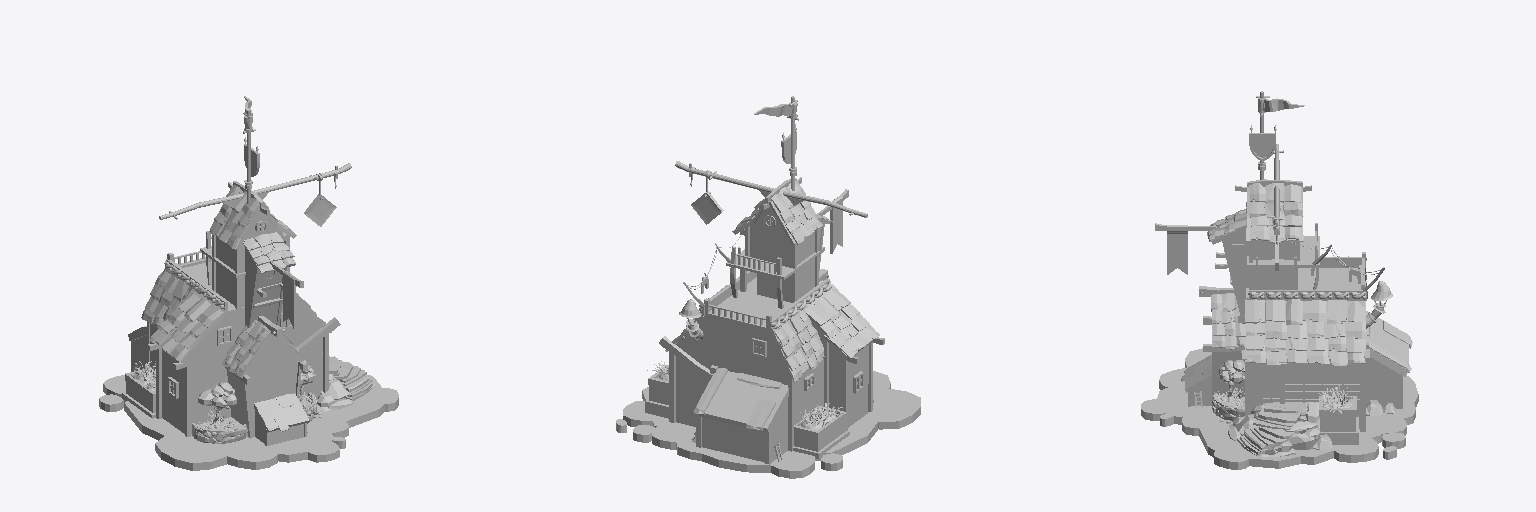
Rendered from house.obj.
3 views of the same model, side by side, from view 1: azimuth 30°, elevation 25°; view 2: azimuth 150°, elevation 25°; view 3: azimuth 270°, elevation 25° (orthographic).
Visible parts, largest first — view 1: curve9_Mesh.001; view 2: curve9_Mesh.001; view 3: curve9_Mesh.001.
Boxes of the visible parts, <box> form: curve9_Mesh.001: <box>99,96,398,470</box>; curve9_Mesh.001: <box>616,96,920,478</box>; curve9_Mesh.001: <box>1141,91,1418,469</box>.
Size of the model in its own units: 0.2199 by 0.2745 by 0.2206.